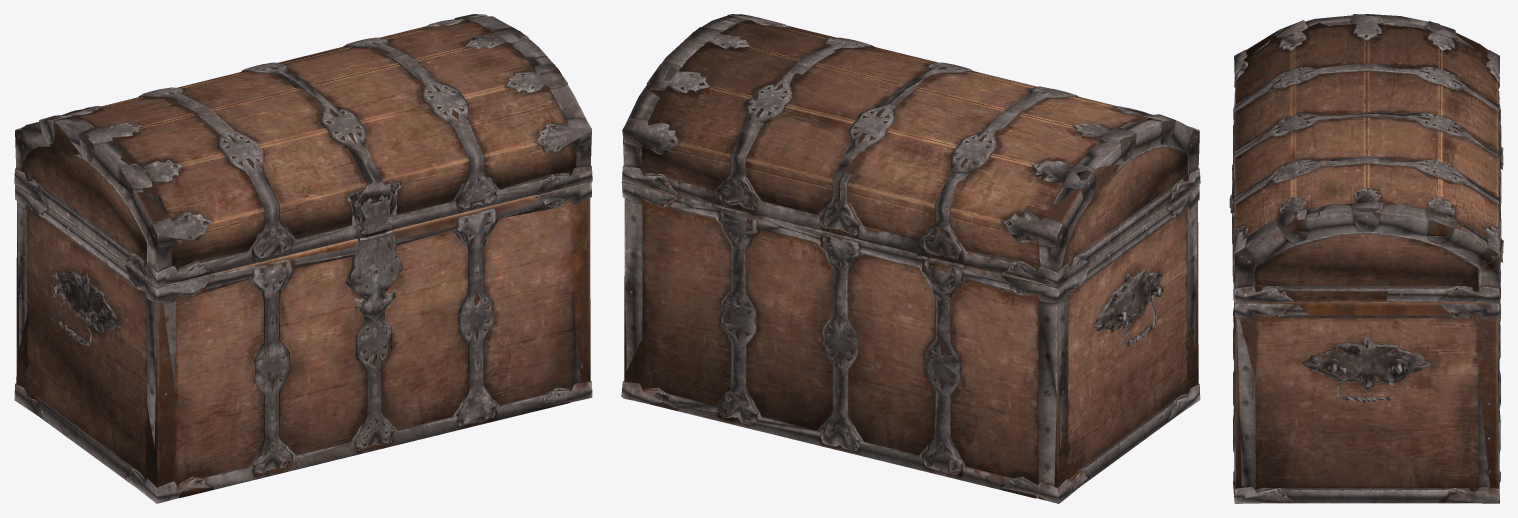
File: chest.glb
3 views of the same model, side by side, from view 1: azimuth 30°, elevation 25°; view 2: azimuth 150°, elevation 25°; view 3: azimuth 270°, elevation 25° (orthographic). The views are drawn at different scales.
Parts seen in each view (by area): view 1: treasure_chest_bottom; view 2: treasure_chest_bottom; view 3: treasure_chest_bottom.
Part boxes in pixels (bbox=[...]): treasure_chest_bottom: bbox=[14, 14, 592, 503]; treasure_chest_bottom: bbox=[621, 14, 1200, 503]; treasure_chest_bottom: bbox=[1229, 14, 1503, 503].
Bounding box in the file's own units: 0.9551 × 0.6161 × 0.5223.
1 material, 1 textured.
